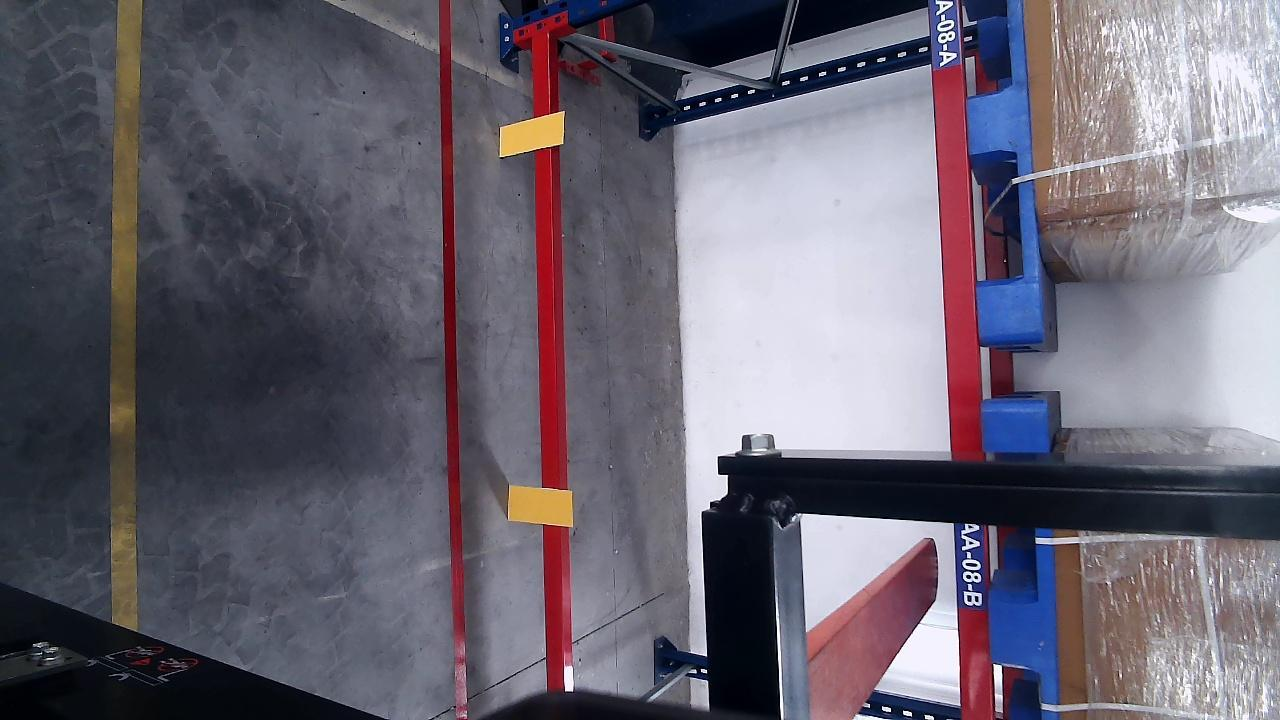h_rack: (928, 2, 991, 717), (530, 31, 567, 689)
orange_strip: (498, 113, 567, 160), (506, 485, 572, 524)
red_line: (438, 1, 468, 720)
small_pallet: (977, 404, 1057, 720)
yellow_line: (113, 0, 144, 630)
